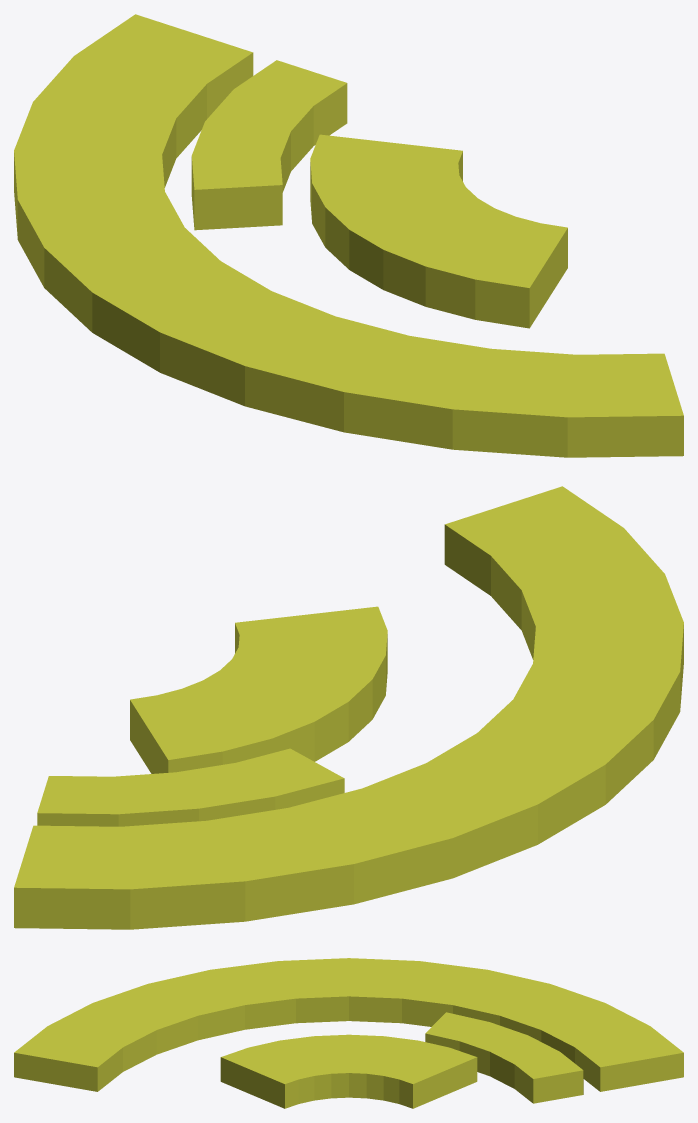
Rendered from magDoor.fbx.
The picture shows the model from 3 angles, top to bottom: view 1: azimuth 30°, elevation 25°; view 2: azimuth 150°, elevation 25°; view 3: azimuth 270°, elevation 25°; orthographic projection. The views are drawn at different scales.
Parts seen in each view (by area): view 1: Outer, Inner, Mid; view 2: Outer, Inner, Mid; view 3: Outer, Inner, Mid.
Part boxes in pixels (x1,y1,x2,y2): Outer: (14,14,683,457); Inner: (310,134,567,328); Mid: (191,60,347,230); Outer: (14,486,683,929); Inner: (130,606,387,773); Mid: (37,748,344,826); Outer: (14,958,683,1091); Inner: (220,1034,477,1108); Mid: (425,1012,583,1103).
Bounding box in the file's own units: 329 × 30 × 739.
